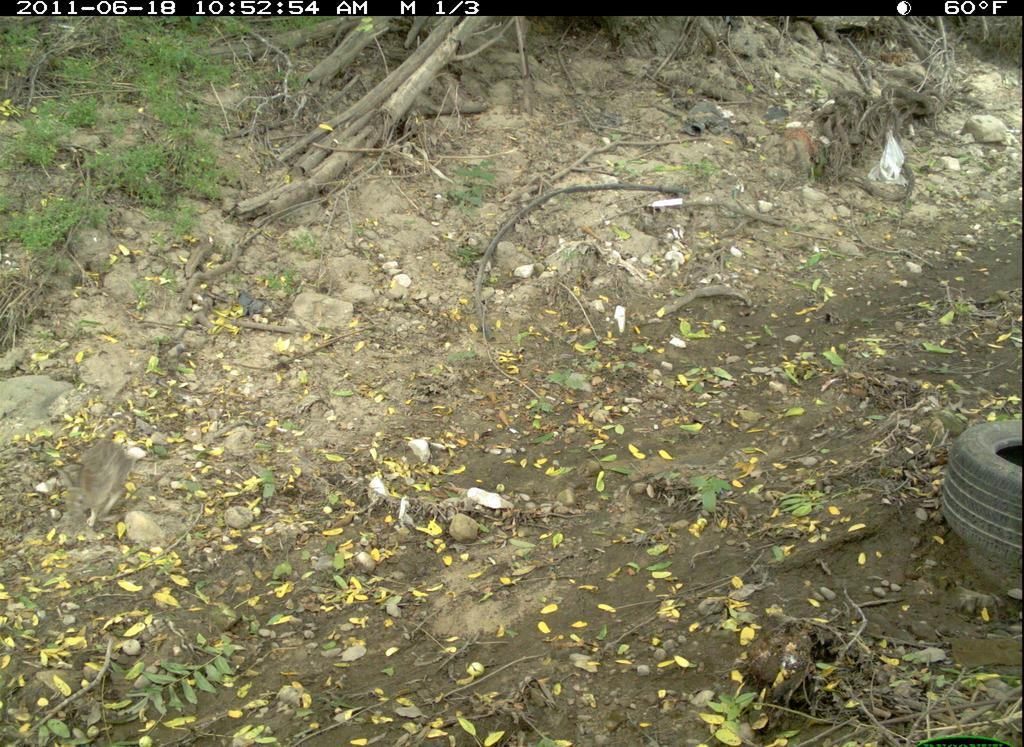rabbit: (35, 433, 136, 543)
